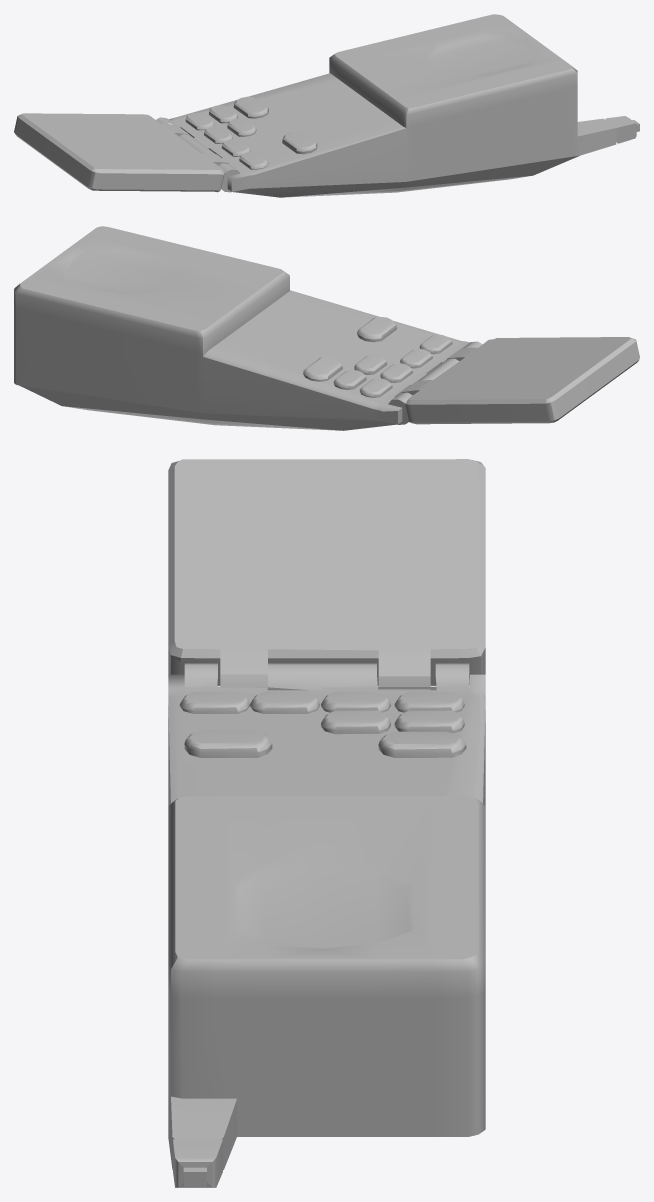
Rendered from maincellphone.glb.
3 views of the same model, one above another, from view 1: azimuth 30°, elevation 25°; view 2: azimuth 150°, elevation 25°; view 3: azimuth 270°, elevation 25° (orthographic). The views are drawn at different scales.
Visible parts, largest first — view 1: main_phone, phone_flip, hashtag_button, asterisk_button, STO_button, RCL_button, END_button, PWR_button, VOL_button, FCW_button; view 2: main_phone, phone_flip, hashtag_button, asterisk_button, RCL_button, STO_button, PWR_button, VOL_button, FCW_button, END_button; view 3: main_phone, phone_flip, hashtag_button, asterisk_button, STO_button, FCW_button, END_button, RCL_button, PWR_button, VOL_button.
Part boxes in pixels (x1,y1,x2,y2): main_phone: (156, 14, 639, 197); phone_flip: (14, 113, 228, 192); hashtag_button: (282, 131, 317, 154); asterisk_button: (233, 96, 268, 118); STO_button: (227, 118, 256, 136); RCL_button: (209, 105, 237, 123); END_button: (239, 152, 268, 169); PWR_button: (185, 112, 214, 130); VOL_button: (204, 126, 232, 143); FCW_button: (221, 139, 250, 156); main_phone: (14, 226, 482, 430); phone_flip: (401, 337, 639, 424); hashtag_button: (357, 317, 396, 342); asterisk_button: (303, 357, 342, 381); RCL_button: (333, 370, 366, 389); STO_button: (354, 354, 387, 374); PWR_button: (359, 378, 392, 397); VOL_button: (380, 363, 413, 382); FCW_button: (400, 348, 432, 368); END_button: (419, 334, 452, 354); main_phone: (168, 663, 485, 1187); phone_flip: (168, 459, 485, 690); hashtag_button: (184, 730, 272, 757); asterisk_button: (378, 731, 466, 757); STO_button: (321, 710, 390, 734); FCW_button: (249, 691, 319, 713); END_button: (179, 691, 249, 713); RCL_button: (394, 710, 464, 733); PWR_button: (394, 691, 464, 712); VOL_button: (321, 691, 390, 712).
Bounding box in the file's own units: 0.0402 × 0.00841 × 0.01.
1 material, 1 textured.
